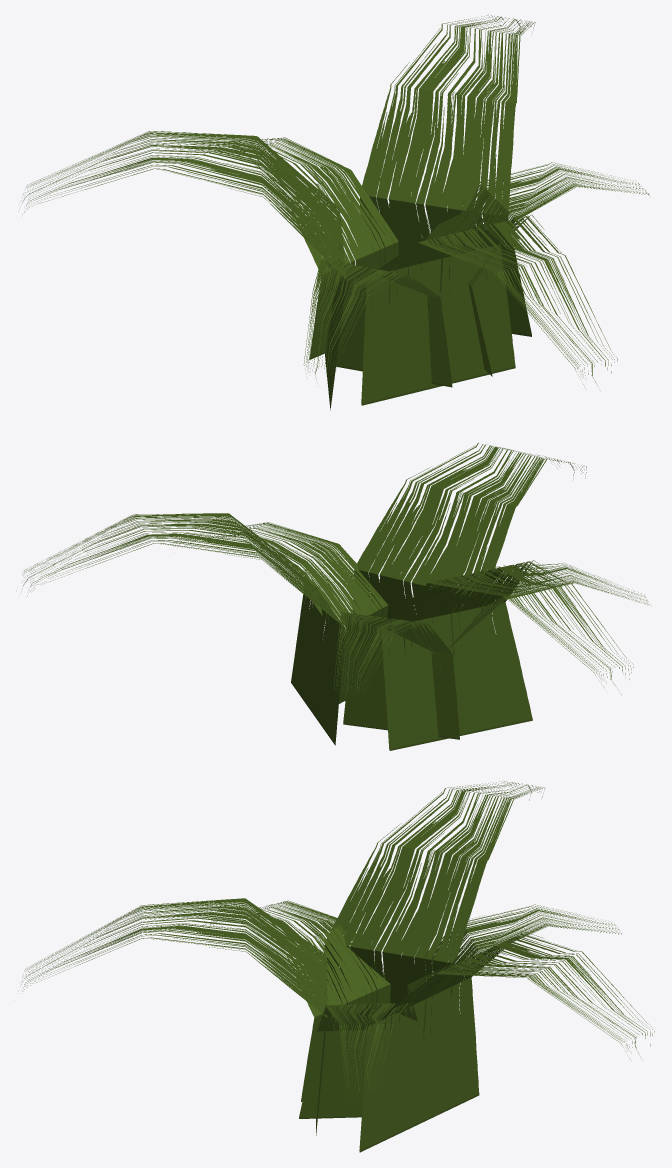
The model's file is grass.fbx.
3 views of the same model, one above another, from view 1: azimuth 30°, elevation 25°; view 2: azimuth 150°, elevation 25°; view 3: azimuth 270°, elevation 25° (orthographic). The views are drawn at different scales.
Parts seen in each view (by area): view 1: grass; view 2: grass; view 3: grass.
Boxes of the visible parts, x1=… form: grass: x1=18, y1=14, x2=649, y2=410; grass: x1=23, y1=442, x2=648, y2=750; grass: x1=21, y1=781, x2=654, y2=1152.
Bounding box in the file's own units: 75.01 × 28.08 × 75.06.
